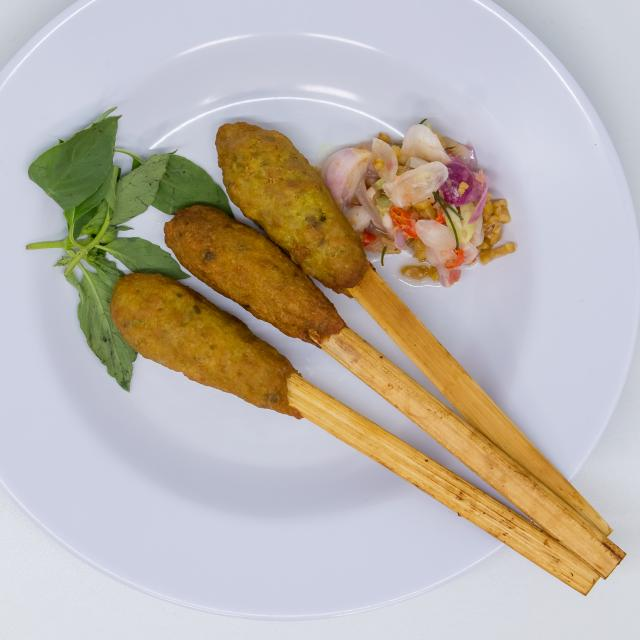Sate-Lilit: (58, 82, 569, 573)
